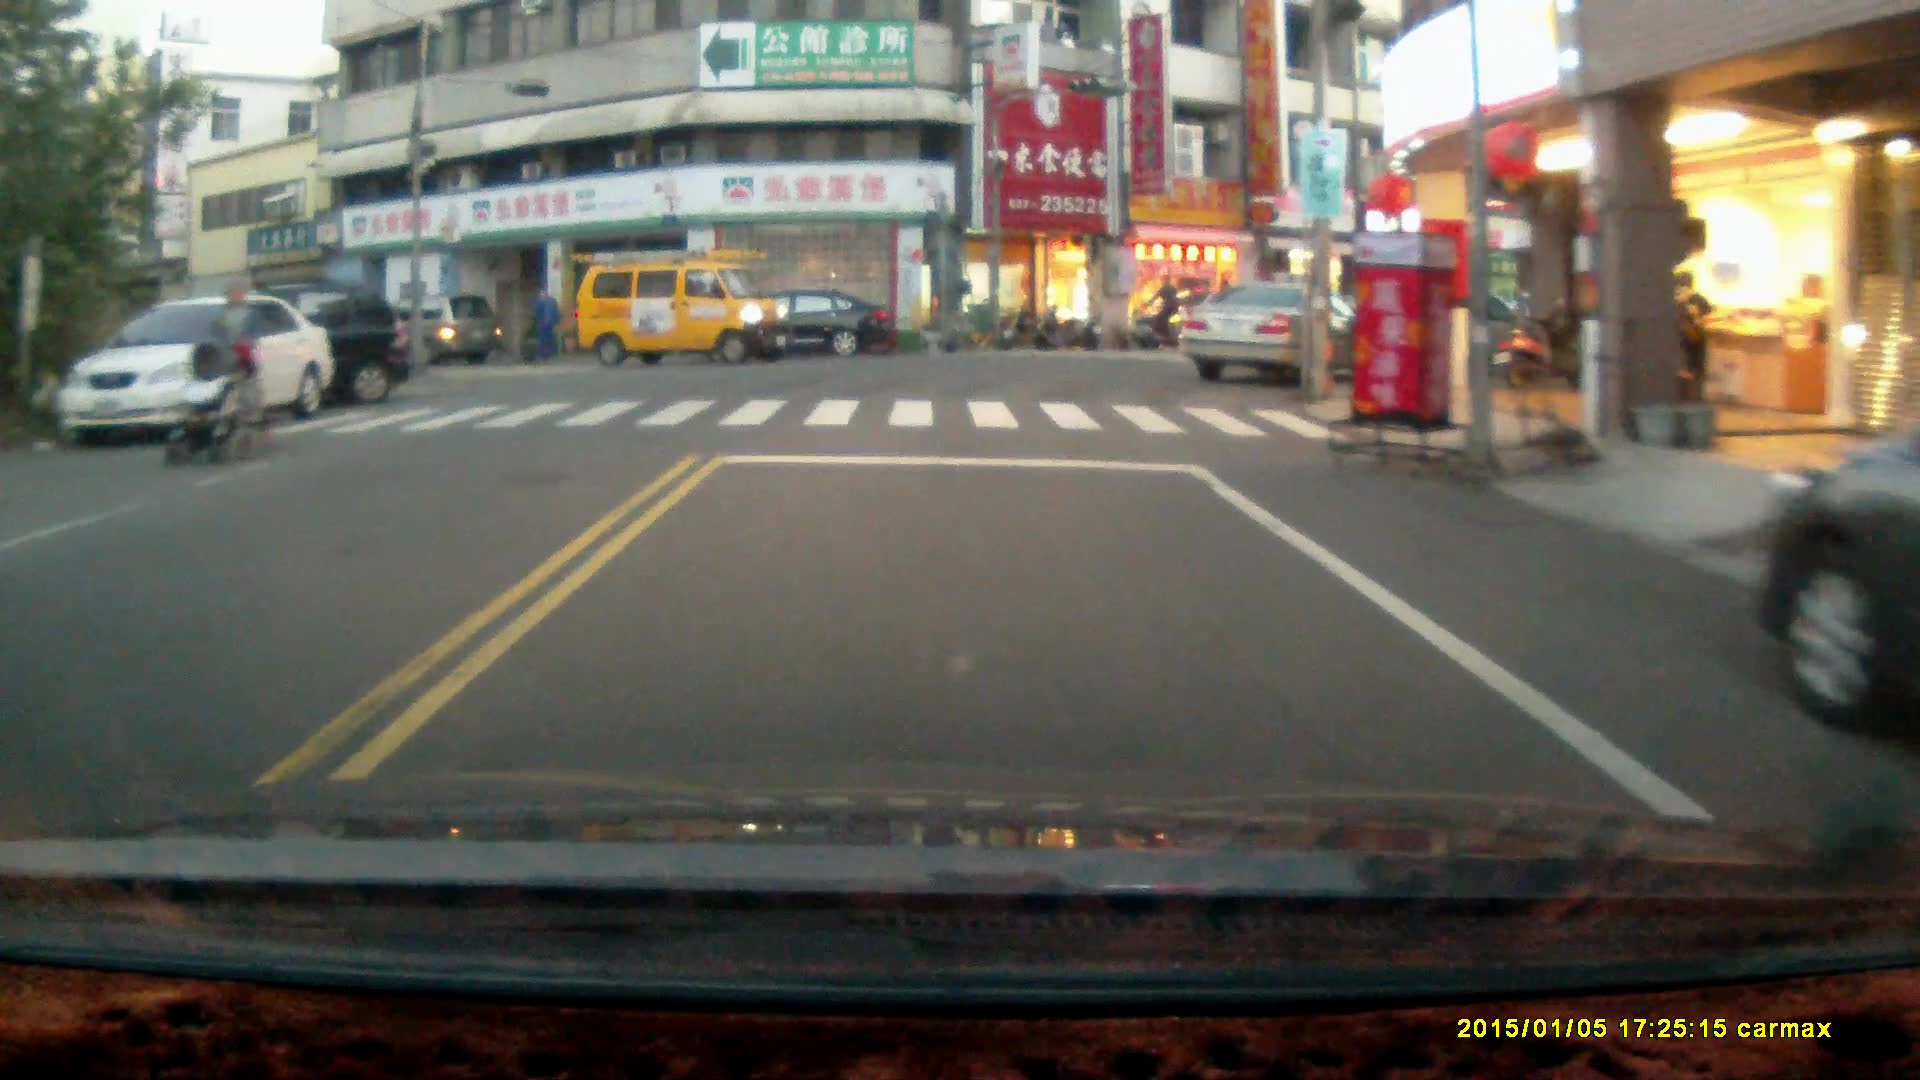pedestrian: (210, 272, 258, 431), (1673, 269, 1711, 416), (532, 284, 560, 361)
rider: (160, 328, 259, 466), (1125, 273, 1186, 355)
vehicle: (56, 292, 329, 447), (138, 276, 408, 407), (578, 244, 794, 365), (1183, 279, 1366, 387), (717, 290, 889, 364), (371, 289, 505, 372)
